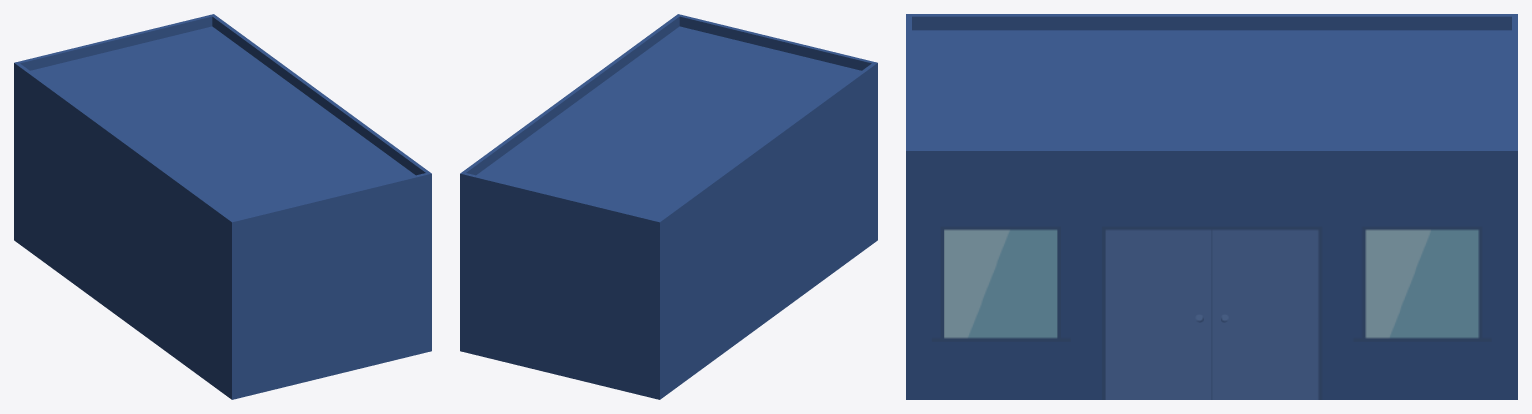
The model's file is jianzhu.obj.
The picture shows the model from 3 angles, left to right: view 1: azimuth 30°, elevation 25°; view 2: azimuth 150°, elevation 25°; view 3: azimuth 270°, elevation 25°; orthographic projection. The views are drawn at different scales.
Parts seen in each view (by area): view 1: 立方体; view 2: 立方体; view 3: 立方体.
Boxes of the visible parts, box(x1,y1,x2,y2) form: 立方体: box(14, 14, 431, 399); 立方体: box(460, 14, 877, 399); 立方体: box(906, 14, 1517, 399).
Size of the model in its own units: 1272 by 1080 by 2404.
1 material, 1 textured.
